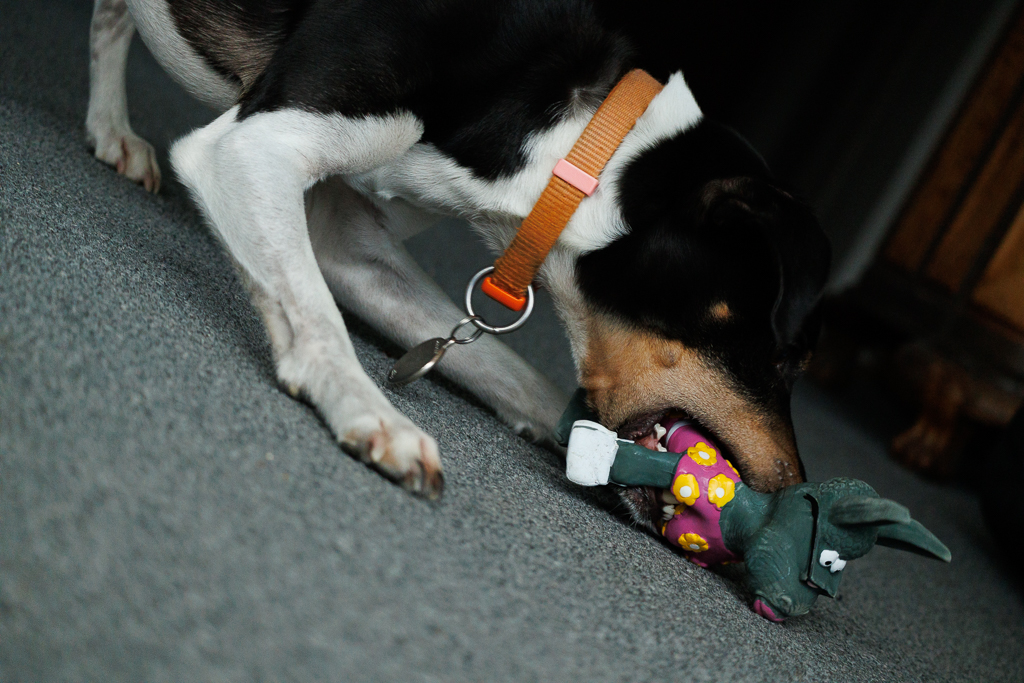Dog: (69, 0, 825, 510)
Humanoid: (545, 332, 960, 643)
